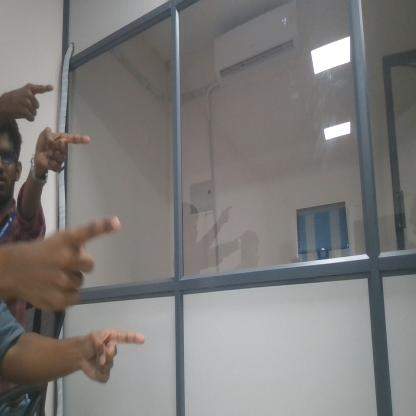Left: (80, 322, 146, 381), (37, 117, 94, 181)
